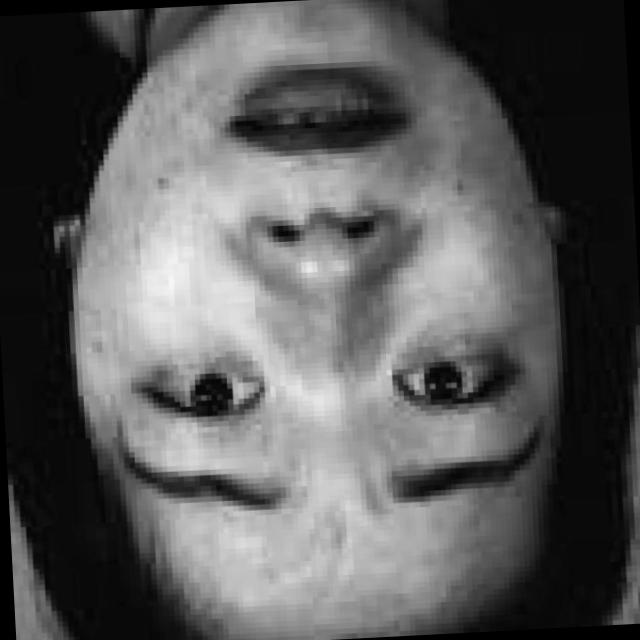fear: (61, 0, 570, 601)
